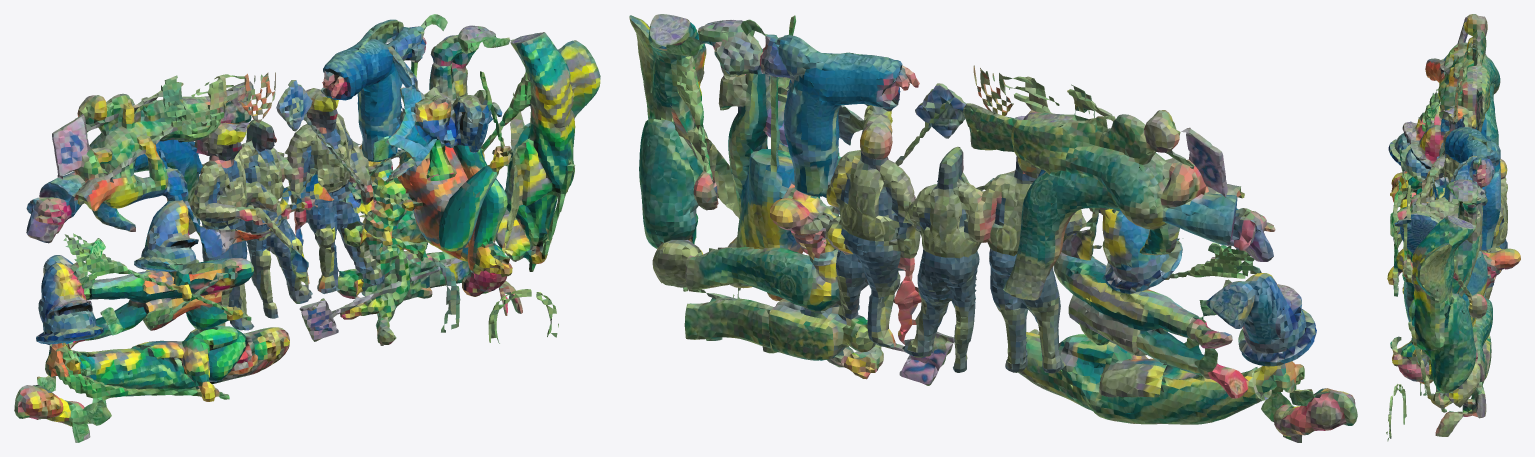
Rendered from combined_DD.glb.
The picture shows the model from 3 angles, left to right: view 1: azimuth 30°, elevation 25°; view 2: azimuth 150°, elevation 25°; view 3: azimuth 270°, elevation 25°; orthographic projection. The views are drawn at different scales.
Parts seen in each view (by area): view 1: irloDD; view 2: irloDD; view 3: irloDD.
Boxes of the visible parts, box(x1,y1,x2,y2) form: irloDD: box(14, 14, 600, 442); irloDD: box(629, 14, 1357, 442); irloDD: box(1386, 14, 1520, 441).
Size of the model in its own units: 0.9985 by 0.4958 by 0.2309.
Materials: 1 (1 with a texture image).
